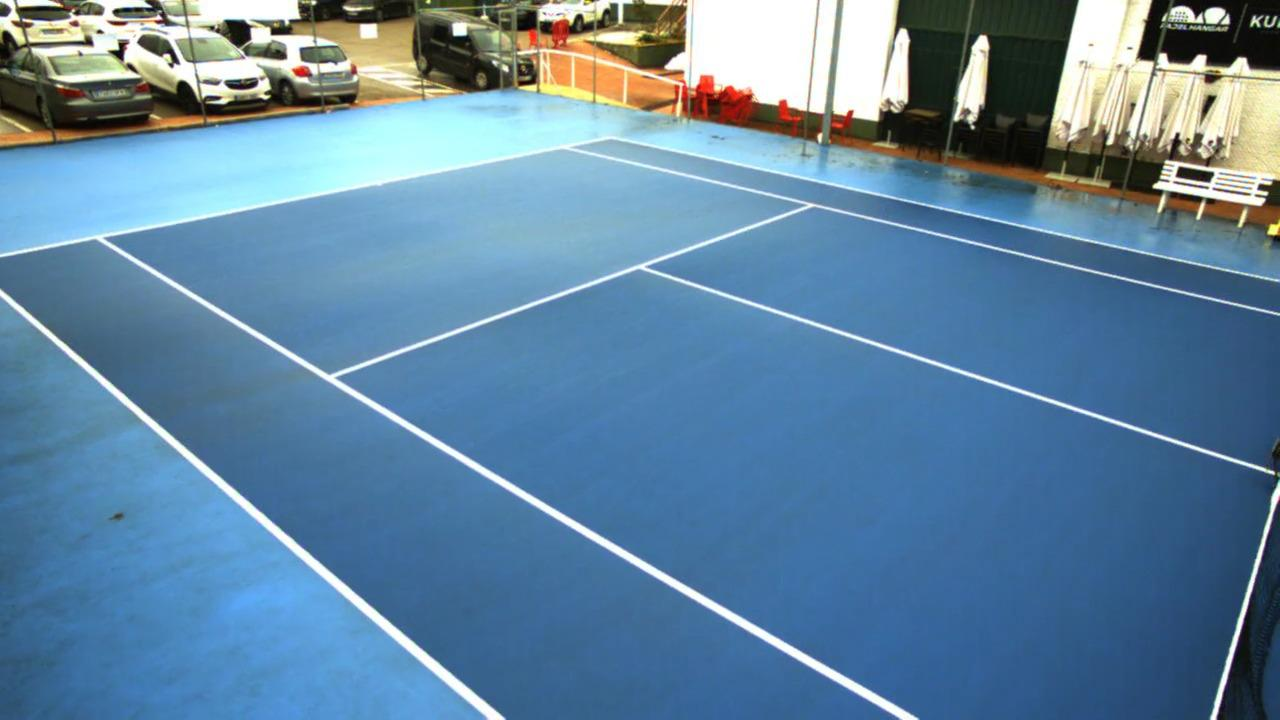cancha_tenis: (97, 146, 1278, 719)
point_f1: (85, 226, 121, 254)
point_f2: (552, 138, 582, 161)
point_fc1: (369, 178, 386, 193)
point_i1: (314, 366, 355, 394)
point_i2: (789, 195, 822, 218)
point_ic1: (624, 254, 662, 281)
